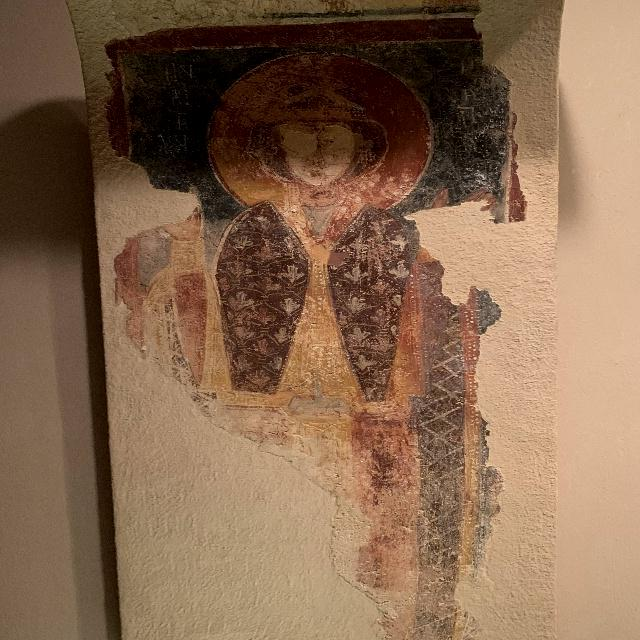aura: (211, 47, 434, 213)
saint: (144, 20, 508, 640)
